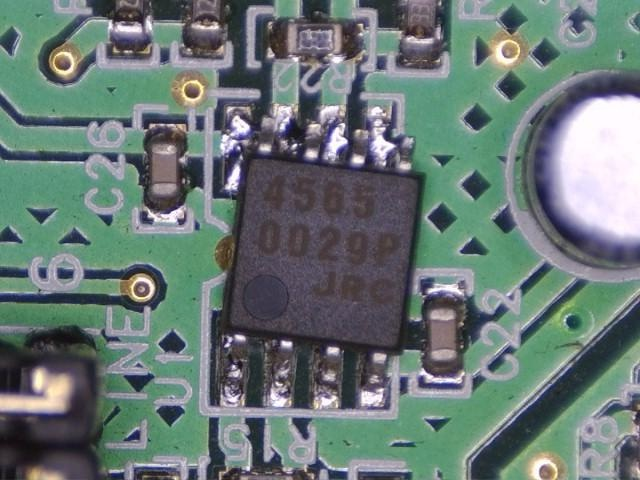pcb_defect: (220, 103, 425, 412), (223, 105, 415, 192)
